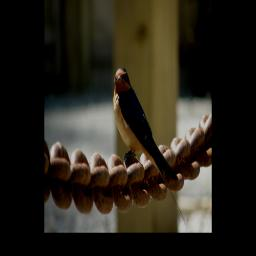Swallow: (112, 67, 188, 226)
